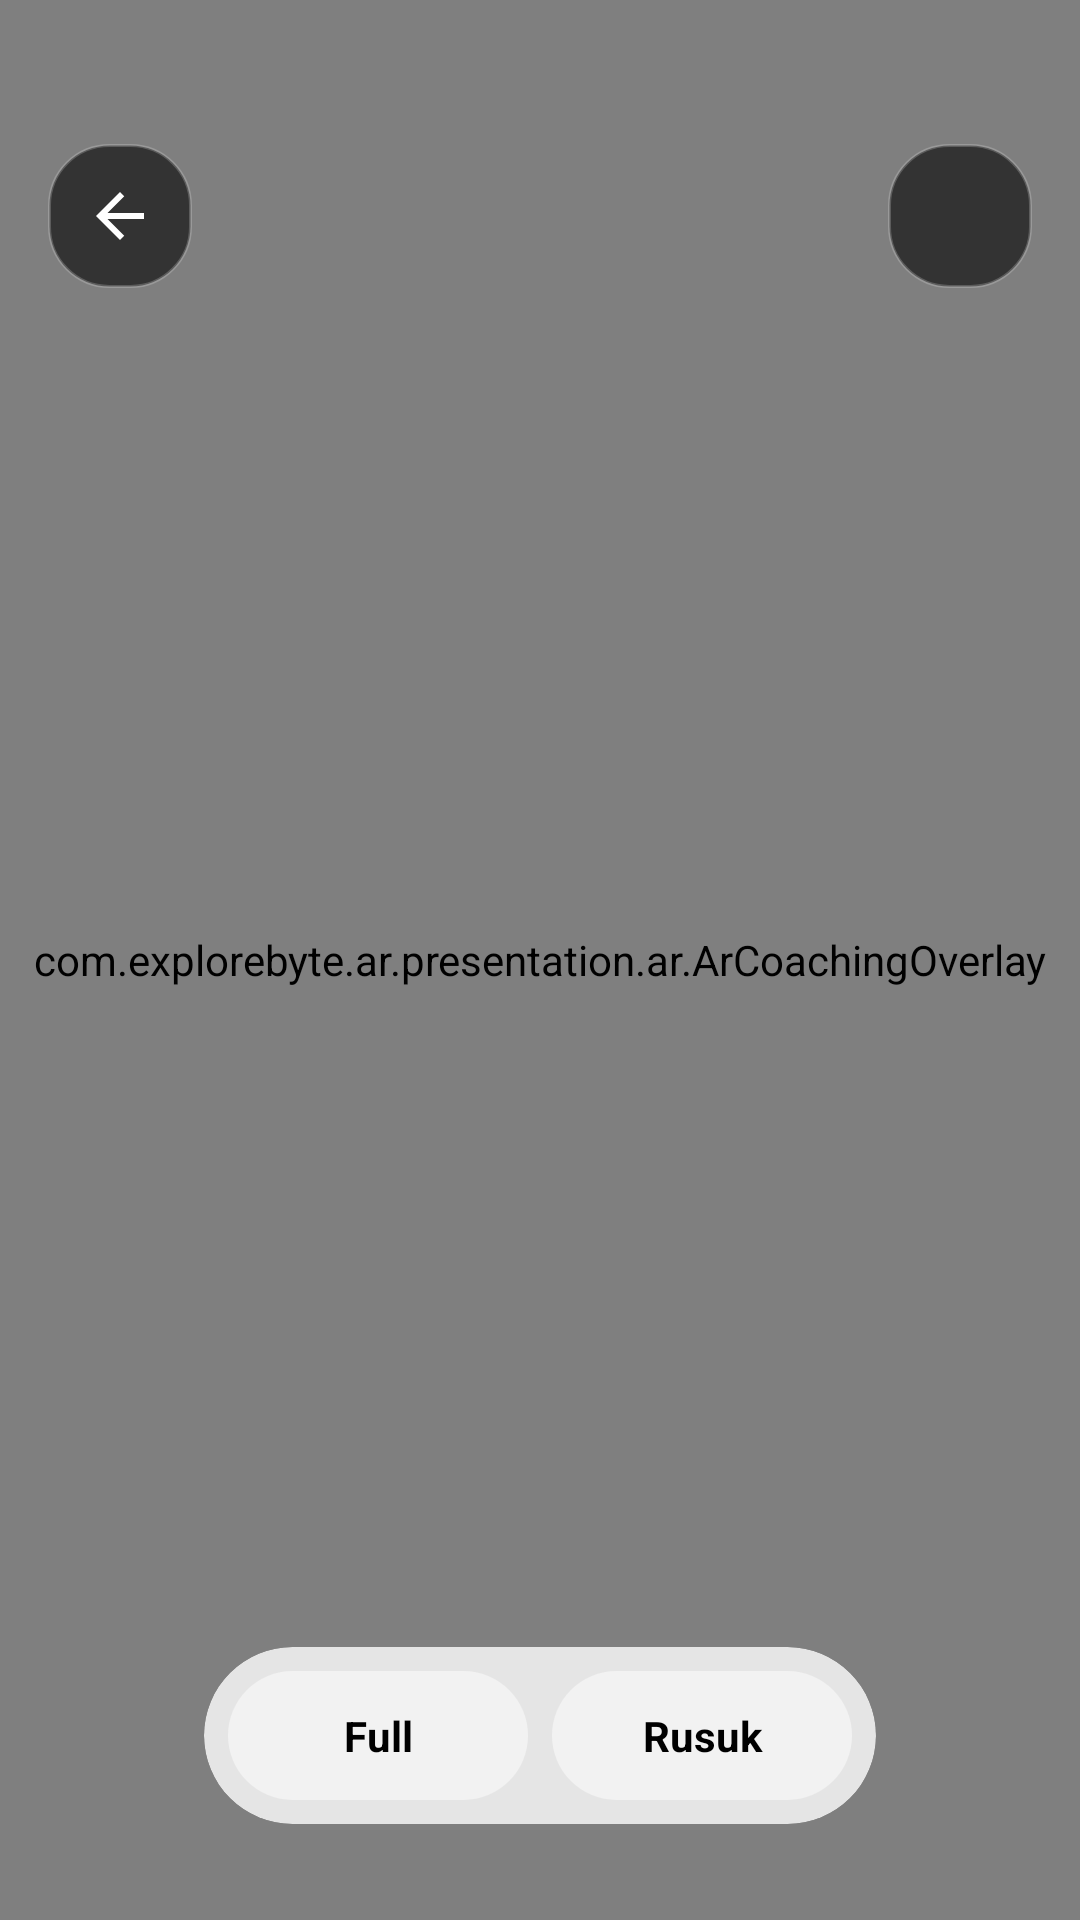

Point at icon controls on the screen. Image size 1080*1920, points as (x=x, y=y).
back: (x=120, y=216)
